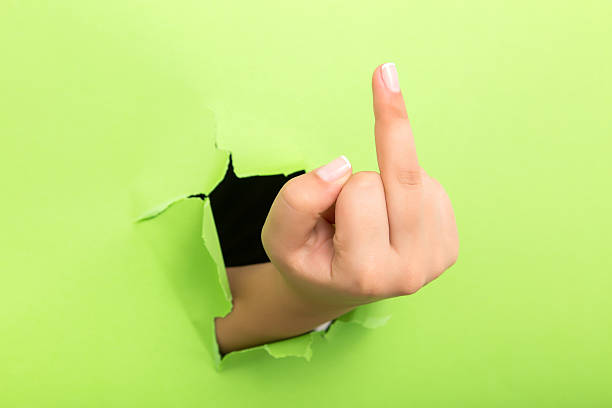insulting_gesture: (259, 62, 459, 332)
